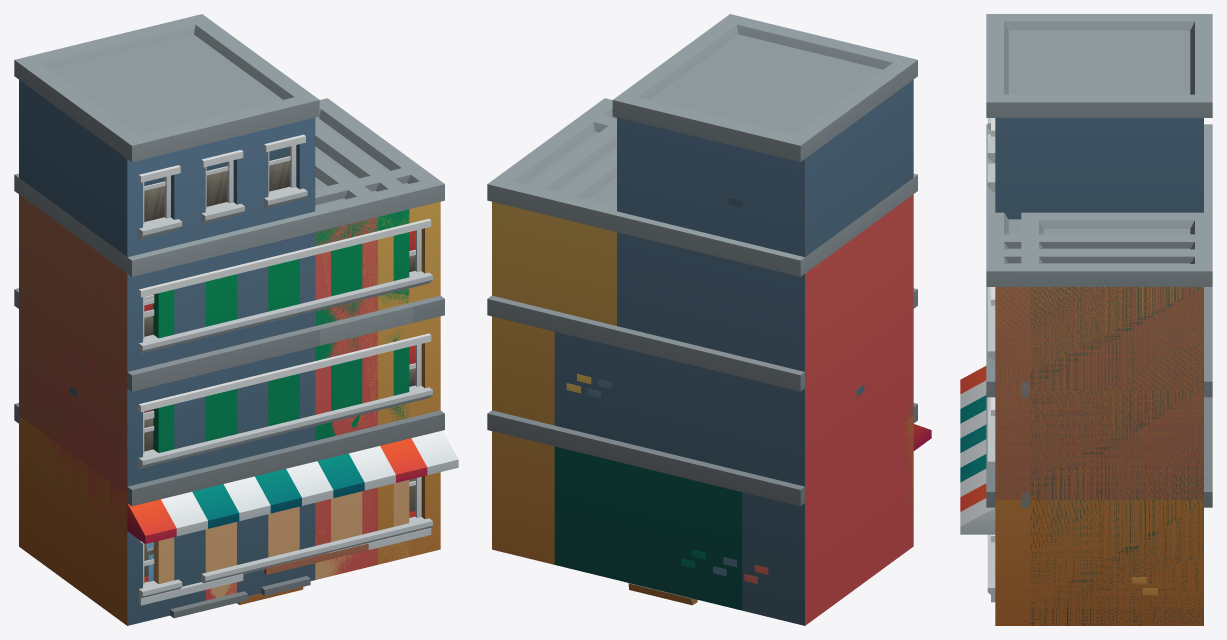
Rendered from city.glb.
3 renders of one model, left to right at view 1: azimuth 30°, elevation 25°; view 2: azimuth 150°, elevation 25°; view 3: azimuth 270°, elevation 25°, orthographic. The views are drawn at different scales.
Visible parts, largest first — view 1: building_H_withoutBase, building_E_withoutBase, building_D_withoutBase, building_F_withoutBase, building_A_withoutBase, building_C_withoutBase, building_B_withoutBase, building_G_withoutBase; view 2: building_H_withoutBase, building_F_withoutBase, building_A_withoutBase, building_D_withoutBase, building_E_withoutBase, building_C_withoutBase; view 3: building_E_withoutBase, building_H_withoutBase, building_F_withoutBase, building_G_withoutBase, building_D_withoutBase, building_C_withoutBase, building_A_withoutBase.
Boxes of the visible parts, x1,y1,x2,y2 form: building_H_withoutBase: (14, 14, 426, 625); building_E_withoutBase: (14, 118, 458, 625); building_D_withoutBase: (153, 120, 411, 611); building_F_withoutBase: (14, 109, 444, 600); building_A_withoutBase: (192, 314, 395, 605); building_C_withoutBase: (202, 150, 381, 608); building_B_withoutBase: (170, 306, 413, 618); building_G_withoutBase: (128, 121, 390, 581); building_H_withoutBase: (487, 14, 917, 625); building_F_withoutBase: (529, 98, 915, 625); building_A_withoutBase: (554, 332, 742, 610); building_D_withoutBase: (519, 126, 773, 367); building_E_withoutBase: (487, 98, 931, 548); building_C_withoutBase: (550, 150, 712, 351); building_E_withoutBase: (960, 219, 1212, 625); building_H_withoutBase: (986, 14, 1212, 594); building_F_withoutBase: (986, 219, 1212, 625); building_G_withoutBase: (1021, 220, 1212, 625); building_D_withoutBase: (986, 212, 1212, 446); building_C_withoutBase: (986, 213, 1210, 554); building_A_withoutBase: (960, 395, 995, 496).
Bounding box in the file's own units: 2.01 × 3.11 × 1.45.
Materials: 1 (1 with a texture image).
